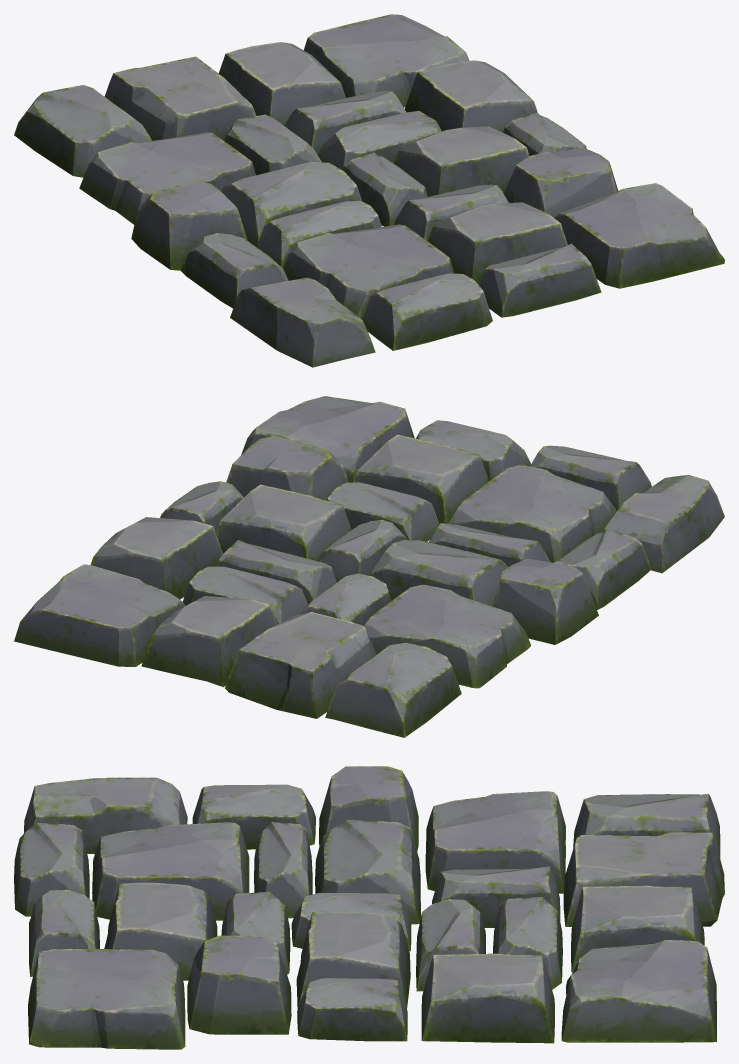
Rendered from rock-path-square-thin-transformed.glb.
The picture shows the model from 3 angles, top to bottom: view 1: azimuth 30°, elevation 25°; view 2: azimuth 150°, elevation 25°; view 3: azimuth 270°, elevation 25°; orthographic projection. The views are drawn at different scales.
Visible parts, largest first — view 1: RockPath_Square_Thin; view 2: RockPath_Square_Thin; view 3: RockPath_Square_Thin.
Boxes of the visible parts, bbox=[...] form: RockPath_Square_Thin: bbox=[14, 14, 724, 367]; RockPath_Square_Thin: bbox=[14, 396, 724, 737]; RockPath_Square_Thin: bbox=[14, 766, 724, 1049].
Bounding box in the file's own units: 1.56 × 0.1763 × 1.99.
1 material, 1 textured.
